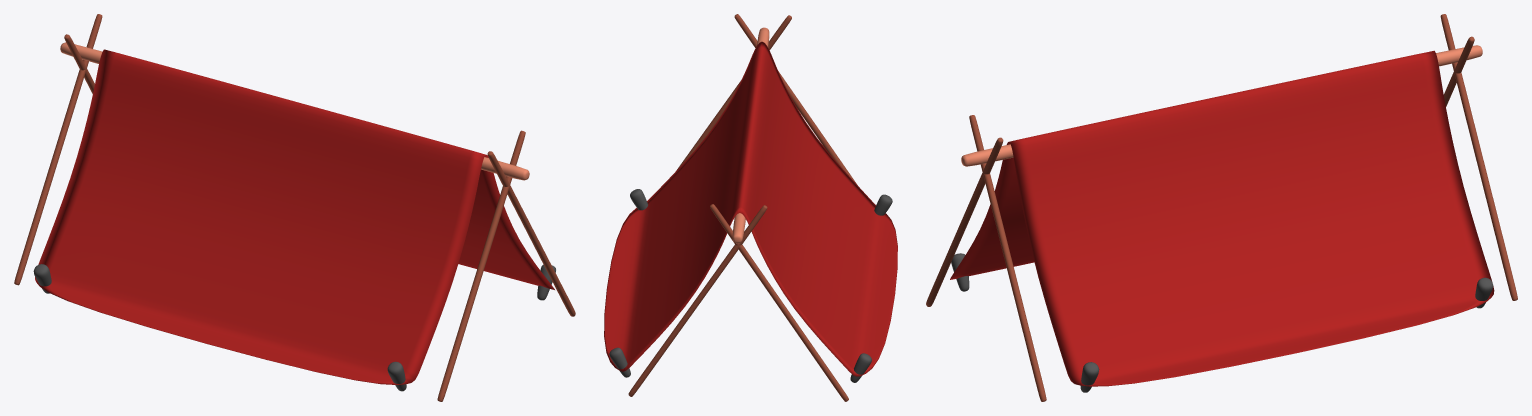
File: cabana.fbx
The picture shows the model from 3 angles, left to right: view 1: azimuth 30°, elevation 25°; view 2: azimuth 150°, elevation 25°; view 3: azimuth 270°, elevation 25°; orthographic projection. The views are drawn at different scales.
Parts seen in each view (by area): view 1: Plane.012; view 2: Plane.012; view 3: Plane.012.
Boxes of the visible parts, x1=… form: Plane.012: x1=14, y1=14, x2=575, y2=401; Plane.012: x1=604, y1=14, x2=897, y2=401; Plane.012: x1=926, y1=14, x2=1517, y2=401.
Bounding box in the file's own units: 740 × 390 × 919.
